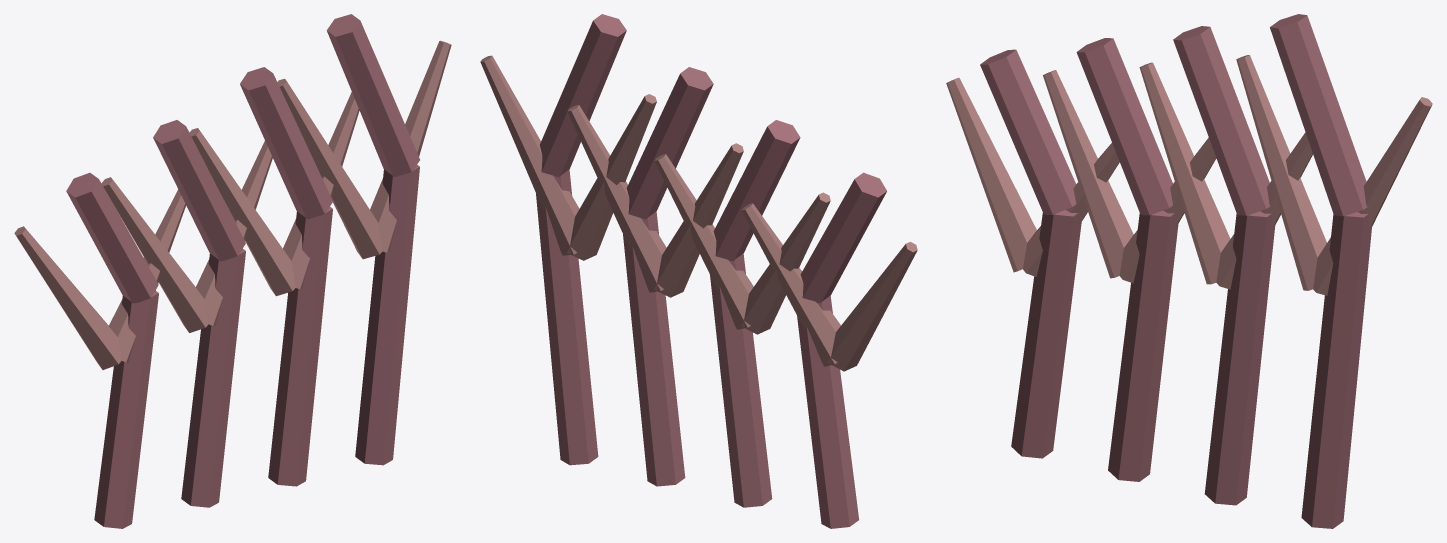
File: map-boundaries-v5__tide_06.glb
The picture shows the model from 3 angles, left to right: view 1: azimuth 30°, elevation 25°; view 2: azimuth 150°, elevation 25°; view 3: azimuth 330°, elevation 25°; orthographic projection. The views are drawn at different scales.
Parts seen in each view (by area): view 1: tide_06; view 2: tide_06; view 3: tide_06.
Boxes of the visible parts, x1=… form: tide_06: x1=14, y1=14, x2=451, y2=528; tide_06: x1=480, y1=14, x2=917, y2=528; tide_06: x1=946, y1=14, x2=1432, y2=528.
Bounding box in the file's own units: 1.85 × 1.82 × 0.1743.
